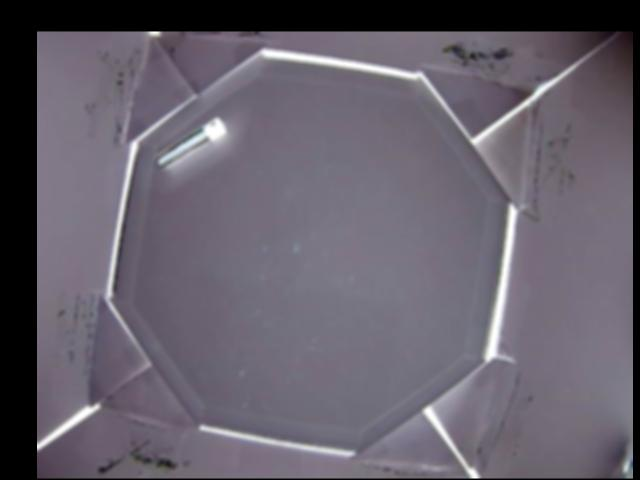Battery: (153, 119, 227, 168)
